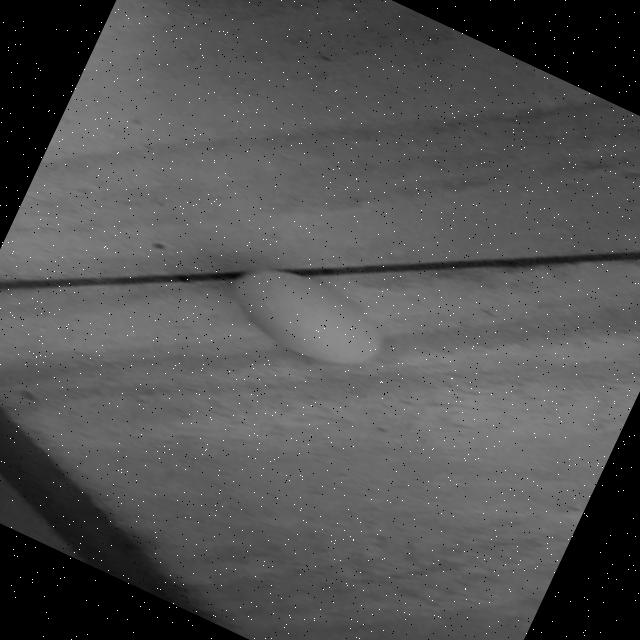ping-pong-ball: (223, 256, 388, 379)
